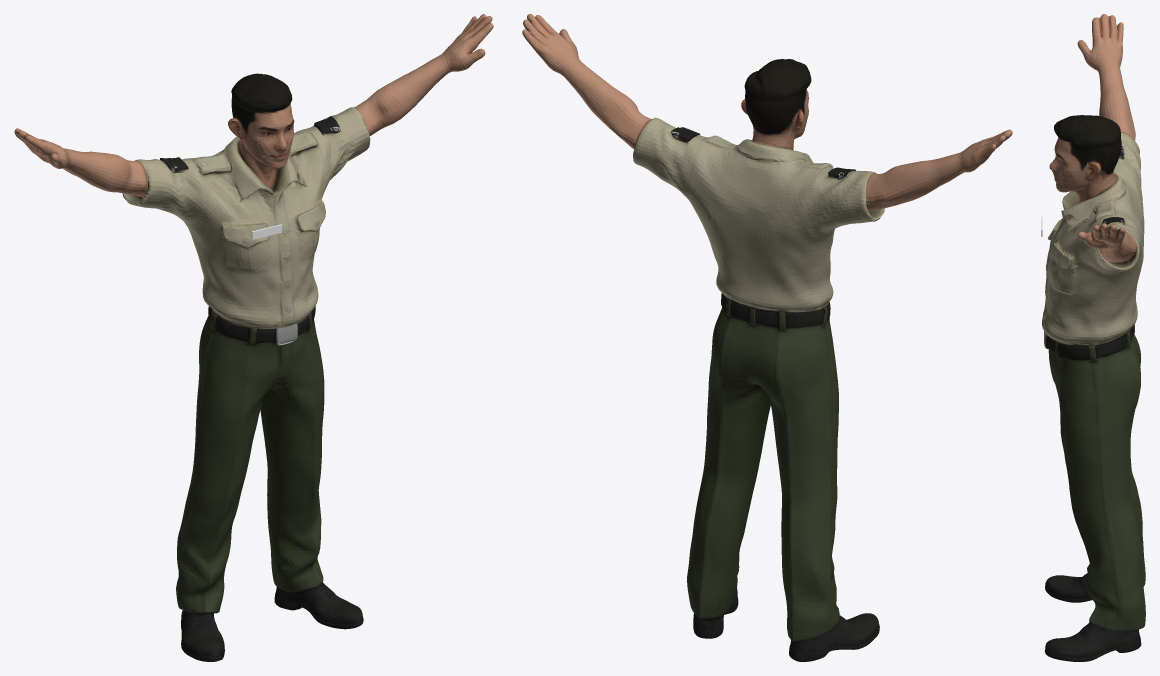
File: army_no3_male.glb
The picture shows the model from 3 angles, left to right: view 1: azimuth 30°, elevation 25°; view 2: azimuth 150°, elevation 25°; view 3: azimuth 270°, elevation 25°; orthographic projection. The views are drawn at different scales.
Visible parts, largest first — view 1: body; view 2: body; view 3: body.
Part boxes in pixels (x1,y1,x2,y2): body: (14, 14, 493, 661); body: (522, 14, 1012, 661); body: (1042, 14, 1145, 661).
Size of what is drawn, in the model's own units: 1.59 by 1.78 by 0.3325.
2 materials, 2 textured.
